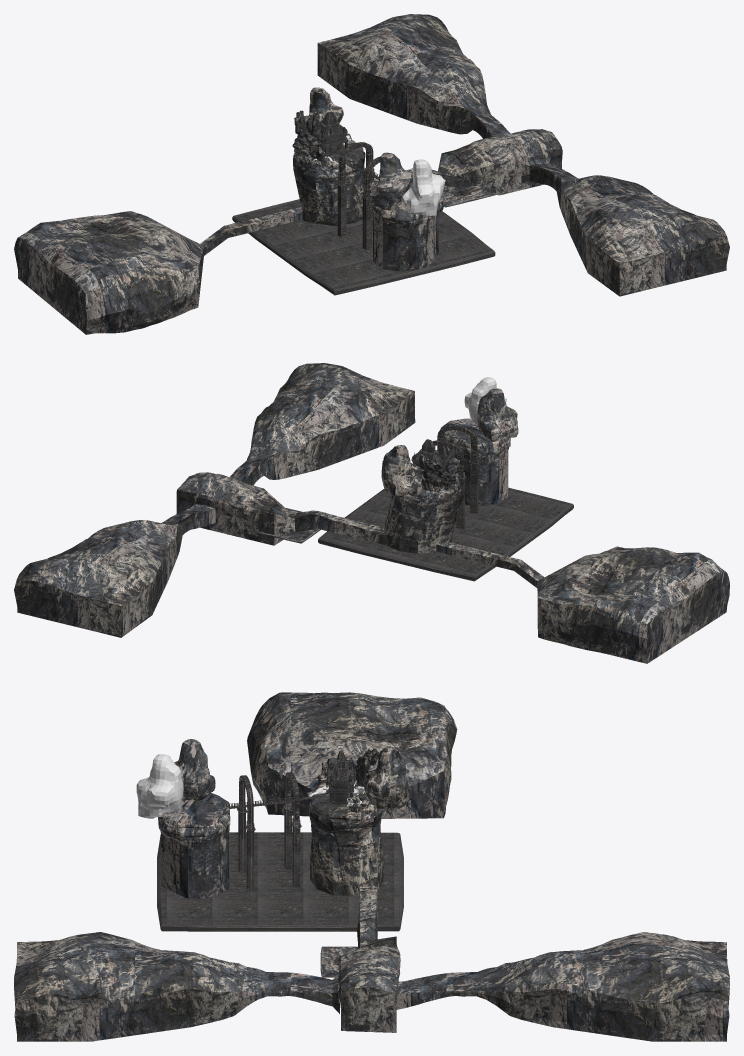
The model's file is Finallevel.fbx.
The picture shows the model from 3 angles, top to bottom: view 1: azimuth 30°, elevation 25°; view 2: azimuth 150°, elevation 25°; view 3: azimuth 270°, elevation 25°; orthographic projection. The views are drawn at different scales.
Parts seen in each view (by area): view 1: Cube.027, Cube.009, Cube.007, Plane.003, Cube.006, Plane.001, Cube.010; view 2: Cube.027, Cube.009, Cube.007, Plane.003, Cube.006; view 3: Cube.027, Cube.009, Cube.007, Plane.003, Cube.006, Plane.001, Cube.010.
Part boxes in pixels (<box>): Cube.027: <box>14,14,729,334</box>; Cube.009: <box>232,199,495,295</box>; Cube.007: <box>292,87,444,271</box>; Plane.003: <box>336,142,380,249</box>; Cube.006: <box>401,159,445,216</box>; Plane.001: <box>312,111,348,156</box>; Cube.010: <box>442,185,495,207</box>; Cube.027: <box>14,363,729,663</box>; Cube.009: <box>318,487,573,581</box>; Cube.007: <box>381,388,518,505</box>; Plane.003: <box>432,425,479,528</box>; Cube.006: <box>464,377,506,424</box>; Cube.027: <box>14,692,729,1041</box>; Cube.009: <box>157,832,403,931</box>; Cube.007: <box>158,739,413,898</box>; Plane.003: <box>237,772,301,890</box>; Cube.006: <box>136,754,183,818</box>; Plane.001: <box>326,750,355,804</box>; Cube.010: <box>320,946,358,977</box>.
Bounding box in the file's own units: 380 × 95.47 × 371.
